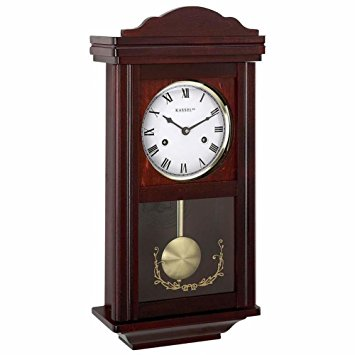clock: (142, 83, 228, 182)
